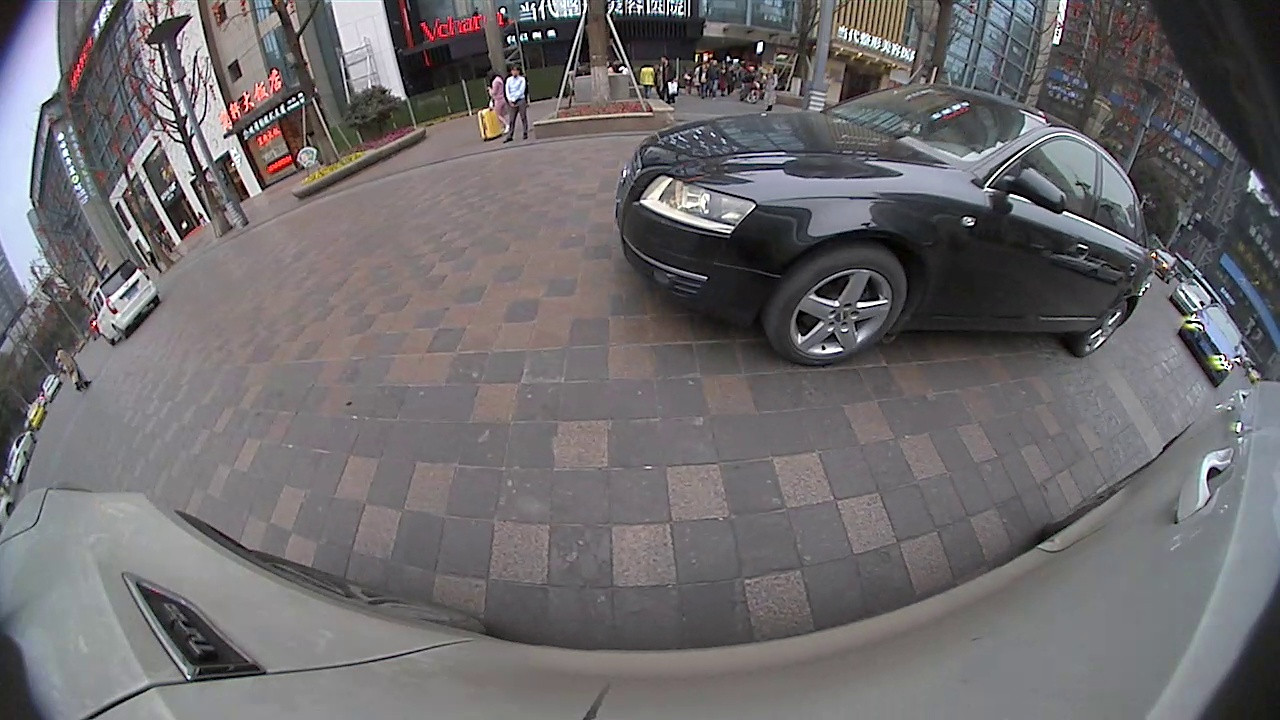car: (614, 82, 1156, 366), (90, 256, 161, 347), (1177, 303, 1246, 389), (1168, 275, 1214, 317)
front: (760, 240, 912, 368)
person: (507, 65, 526, 144), (55, 346, 73, 394)
rear: (1070, 296, 1133, 361)
